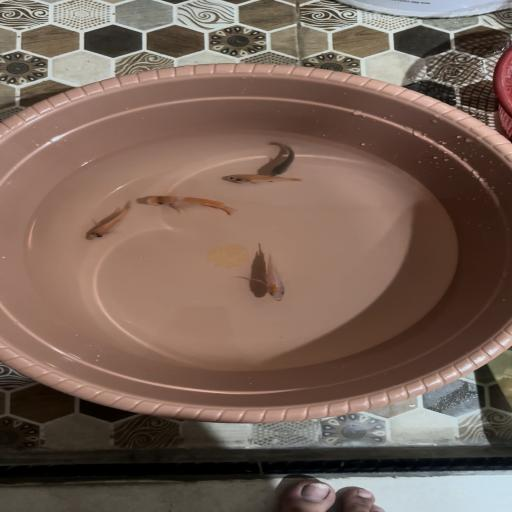nila: (249, 252, 297, 302), (142, 192, 238, 217), (83, 198, 137, 242), (261, 142, 308, 177), (219, 172, 305, 186)
